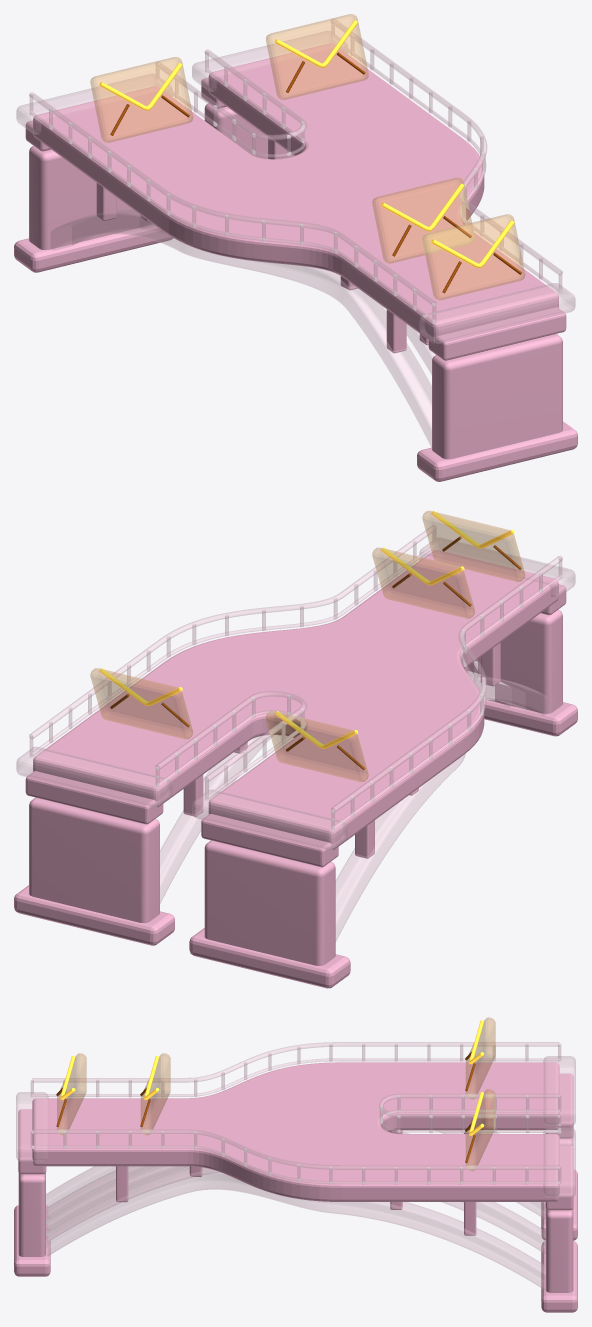
The model's file is eventbridge.glb.
The picture shows the model from 3 angles, top to bottom: view 1: azimuth 30°, elevation 25°; view 2: azimuth 150°, elevation 25°; view 3: azimuth 270°, elevation 25°; orthographic projection. The views are drawn at different scales.
Visible parts, largest first — view 1: Continuous fork deck, Entry abutment, Port outer arch rib, Port abutment, Left exit envelope, Right exit envelope, Entry envelope, Second entry envelope, Port, Entry landing, Starboard, Entry pier (+12 smaller); view 2: Continuous fork deck, Port abutment, Starboard abutment, Entry abutment, Port outer arch rib, Starboard, Right exit landing, Left exit landing, Left exit envelope, Right exit envelope, Second entry envelope, Entry envelope (+16 smaller); view 3: Continuous fork deck, Starboard outer arch rib, Starboard, Port, Starboard inner arch rib, Center slot, Port inner arch rib, Entry abutment, Starboard abutment, Entry landing, Right exit landing, Left exit landing (+13 smaller).
Boxes of the visible parts, bbox=[...] form: Continuous fork deck: bbox=[33, 43, 558, 343]; Entry abutment: bbox=[432, 334, 562, 459]; Port outer arch rib: bbox=[51, 208, 431, 447]; Port abutment: bbox=[29, 146, 152, 250]; Left exit envelope: bbox=[90, 57, 192, 142]; Right exit envelope: bbox=[266, 14, 368, 99]; Entry envelope: bbox=[422, 214, 524, 299]; Second entry envelope: bbox=[372, 178, 474, 263]; Port: bbox=[29, 92, 436, 324]; Entry landing: bbox=[419, 283, 575, 343]; Starboard: bbox=[331, 18, 562, 293]; Entry pier: bbox=[428, 307, 566, 360]; Continuous fork deck: bbox=[33, 550, 558, 849]; Port abutment: bbox=[204, 840, 335, 965]; Starboard abutment: bbox=[29, 797, 159, 923]; Entry abutment: bbox=[467, 609, 562, 713]; Port outer arch rib: bbox=[336, 674, 547, 940]; Starboard: bbox=[29, 525, 436, 757]; Right exit landing: bbox=[16, 747, 172, 807]; Left exit landing: bbox=[192, 789, 347, 850]; Left exit envelope: bbox=[266, 711, 368, 781]; Right exit envelope: bbox=[90, 668, 192, 738]; Second entry envelope: bbox=[372, 548, 474, 618]; Entry envelope: bbox=[422, 511, 524, 581]; Continuous fork deck: bbox=[32, 1062, 559, 1201]; Starboard outer arch rib: bbox=[45, 1167, 545, 1289]; Starboard: bbox=[31, 1129, 560, 1184]; Port: bbox=[31, 1042, 560, 1097]; Starboard inner arch rib: bbox=[46, 1166, 545, 1253]; Center slot: bbox=[379, 1094, 560, 1132]; Port inner arch rib: bbox=[46, 1132, 545, 1229]; Entry abutment: bbox=[18, 1173, 45, 1256]; Starboard abutment: bbox=[546, 1209, 573, 1292]; Entry landing: bbox=[16, 1092, 48, 1161]; Right exit landing: bbox=[543, 1128, 575, 1197]; Left exit landing: bbox=[543, 1056, 575, 1125].
Bounding box in the file's own units: 2.72 × 1.74 × 4.97.
